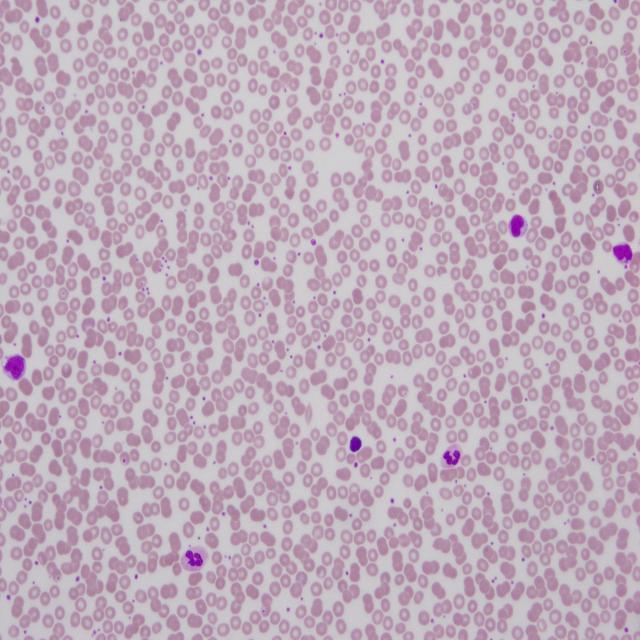cell: (441, 443, 462, 469)
